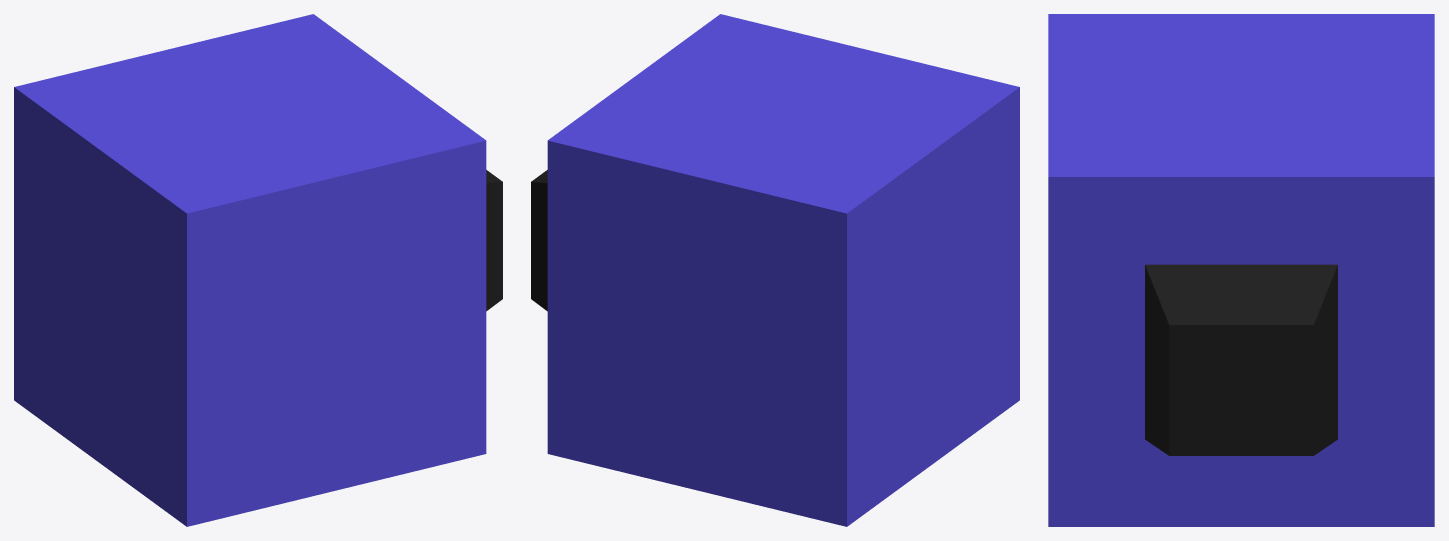
3 views of the same model, side by side, from view 1: azimuth 30°, elevation 25°; view 2: azimuth 150°, elevation 25°; view 3: azimuth 270°, elevation 25° (orthographic). The views are drawn at different scales.
Visible parts, largest first — view 1: Cube; view 2: Cube; view 3: Cube.
Boxes of the visible parts, x1,y1,x2,y2 form: Cube: (14,14,502,526); Cube: (531,14,1019,526); Cube: (1048,14,1434,526).
Size of the model in its own units: 2.47 by 2 by 2.
